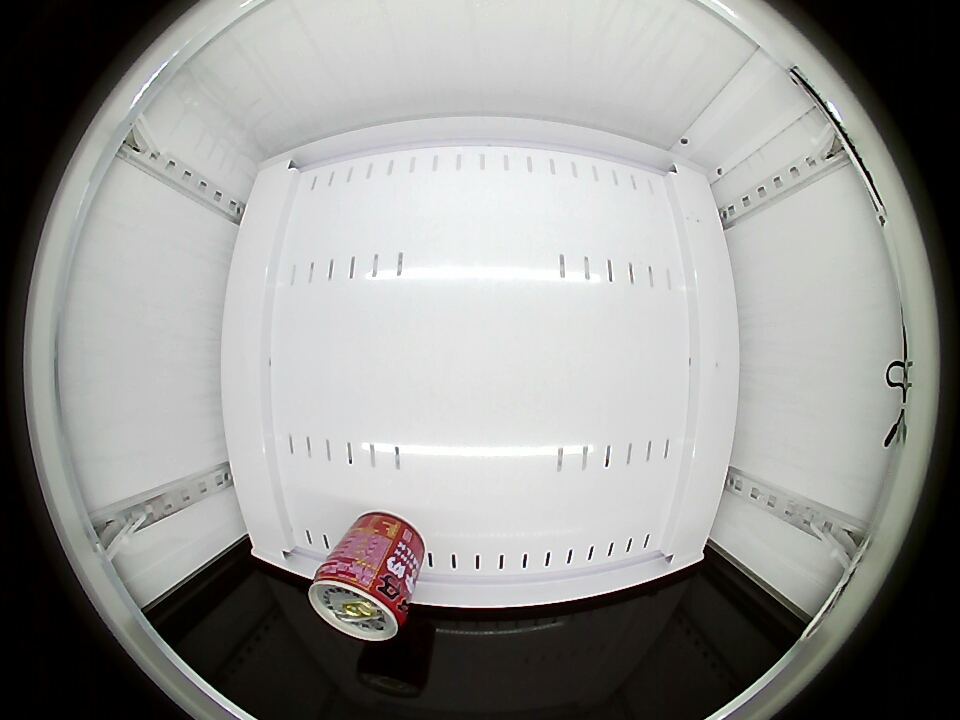wangzainiunai: (308, 554, 412, 642)
